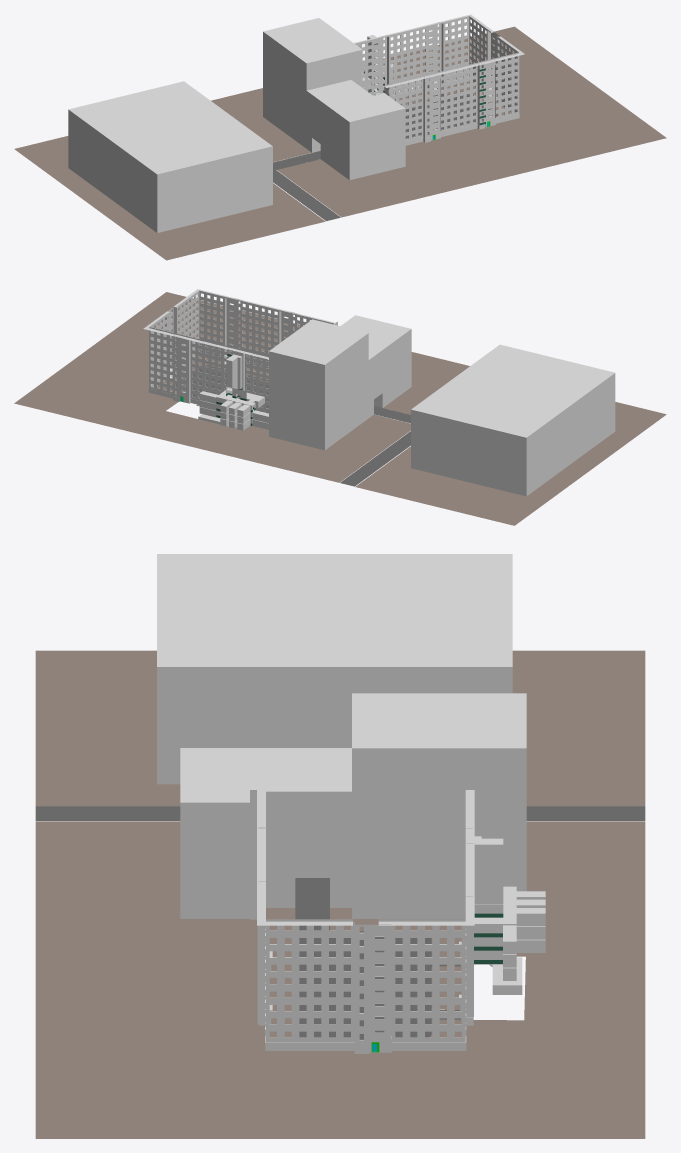
The model's file is doortohell_export.fbx.
3 renders of one model, top to bottom at view 1: azimuth 30°, elevation 25°; view 2: azimuth 150°, elevation 25°; view 3: azimuth 270°, elevation 25°, orthographic. The views are drawn at different scales.
Visible parts, largest first — view 1: ground.001, Cube, building1.001, building2, road, roof, entrance_window.004, entrance_window.005, entrance_windowside.003, entrance_windowside.004, entrance_windowside, entrance_windowside.001 (+3 smaller); view 2: ground.001, Cube, building2, building1.001, road, roof, dark_room.001, entrance_window.001, entrance_window.004, stairs_right.023, entrance_windowside.001, dark_room.002 (+3 smaller); view 3: ground.001, Cube, building2, building1.001, road, roof, entrance_window.002, dark_room.001, stairs_right.023, entrance_windowside.002, w1.47m_window.012, w1.47m_window.025 (+11 smaller).
Boxes of the visible parts, x1,y1,x2,y2 form: ground.001: (14,26,666,260); Cube: (68,81,272,232); building1.001: (306,80,405,180); building2: (263,18,362,148); road: (273,91,498,221); roof: (354,14,524,87); entrance_window.004: (486,65,495,120); entrance_window.005: (431,78,440,133); entrance_windowside.003: (477,63,485,125); entrance_windowside.004: (423,77,431,138); entrance_windowside: (381,35,389,95); entrance_windowside.001: (435,22,443,83); ground.001: (14,292,666,525); Cube: (411,344,615,496); building2: (269,319,368,450); building1.001: (340,315,411,417); road: (172,365,410,486); roof: (143,289,335,359); dark_room.001: (220,400,250,430); entrance_window.001: (179,341,190,396); entrance_window.004: (224,300,236,353); stairs_right.023: (226,354,242,387); entrance_windowside.001: (172,335,179,397); dark_room.002: (199,391,218,417); ground.001: (35,650,645,1138); Cube: (157,554,512,784); building2: (352,693,526,918); building1.001: (180,748,351,918); road: (35,806,645,1039); roof: (257,790,474,925); entrance_window.002: (369,932,391,1038); dark_room.001: (516,891,545,952); stairs_right.023: (474,836,503,897); entrance_windowside.002: (354,922,369,1045); w1.47m_window.012: (450,925,465,1042); w1.47m_window.025: (406,925,421,1042).
Bounding box in the file's own units: 23491 × 3968 × 12386.
